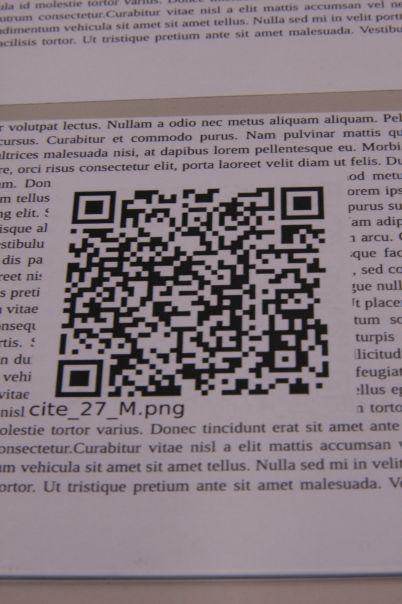Finder pattern: (52, 355, 111, 400), (277, 182, 333, 228), (66, 185, 123, 230)
